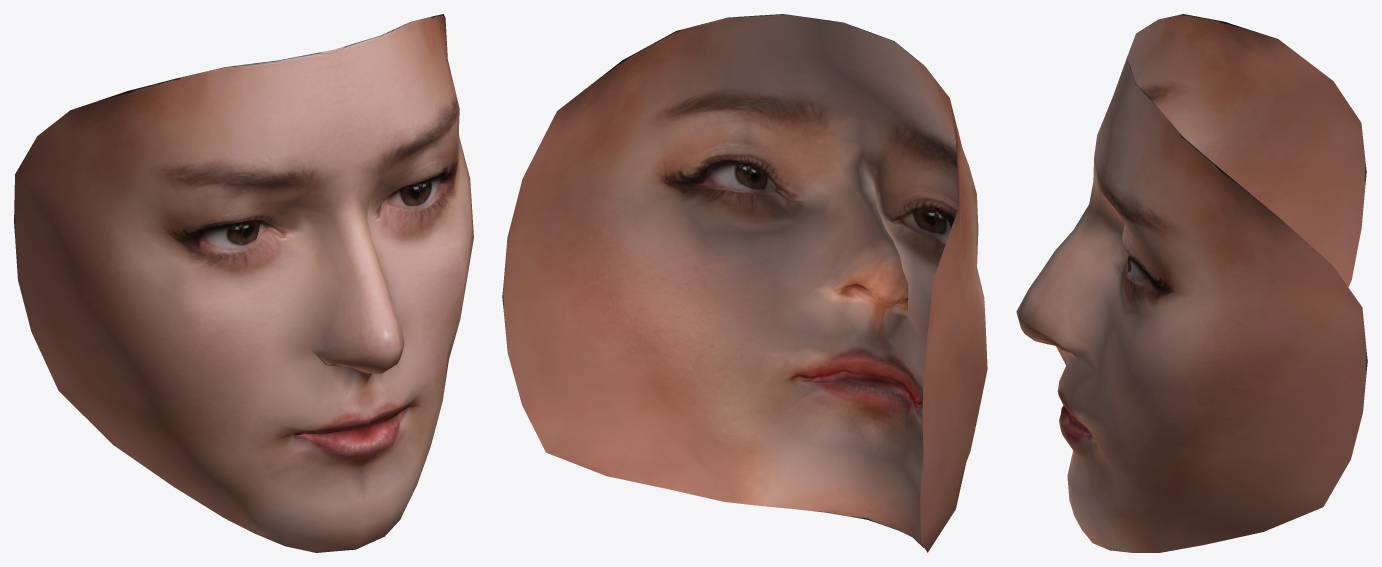
File: raccoon_head.glb
The picture shows the model from 3 angles, left to right: view 1: azimuth 30°, elevation 25°; view 2: azimuth 150°, elevation 25°; view 3: azimuth 270°, elevation 25°; orthographic projection. The views are drawn at different scales.
Visible parts, largest first — view 1: dnzb_Dilraba_advanced_centered.001; view 2: dnzb_Dilraba_advanced_centered.001; view 3: dnzb_Dilraba_advanced_centered.001.
Boxes of the visible parts, <box> form: dnzb_Dilraba_advanced_centered.001: <box>14,14,473,552</box>; dnzb_Dilraba_advanced_centered.001: <box>502,14,987,552</box>; dnzb_Dilraba_advanced_centered.001: <box>1016,14,1367,552</box>.
Bounding box in the file's own units: 0.4479 × 0.5222 × 0.3527.
Materials: 1 (1 with a texture image).
